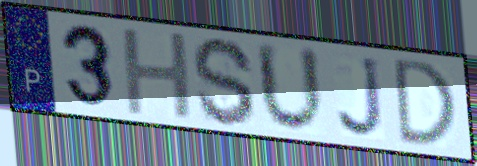3: (59, 20, 121, 112)
D: (393, 55, 460, 148)
H: (118, 27, 198, 121)
J: (335, 55, 388, 142)
S: (190, 34, 258, 128)
U: (252, 38, 328, 137)
